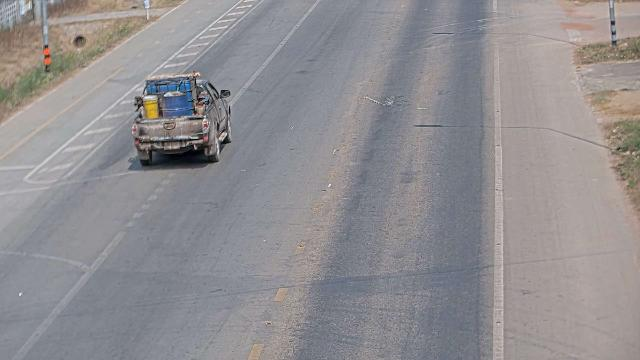pickup-truck: (131, 70, 232, 166)
